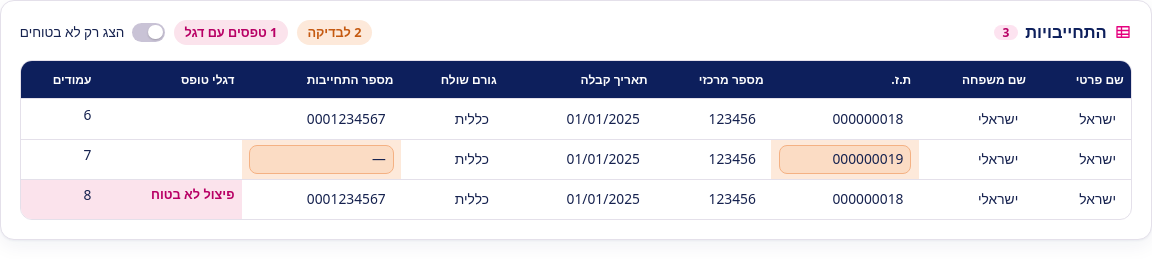
Scenario: ReviewTable › filters to uncertain rows with the toggle
Expected: the number of rows is 4, [21,61,1131,99]; [21,99,1131,139]; [21,139,1131,179]; [21,179,1131,219]
Step 1. Click the checkbox labelled "הצג רק לא בטוחים" → (92, 32), box [20,22,165,42]
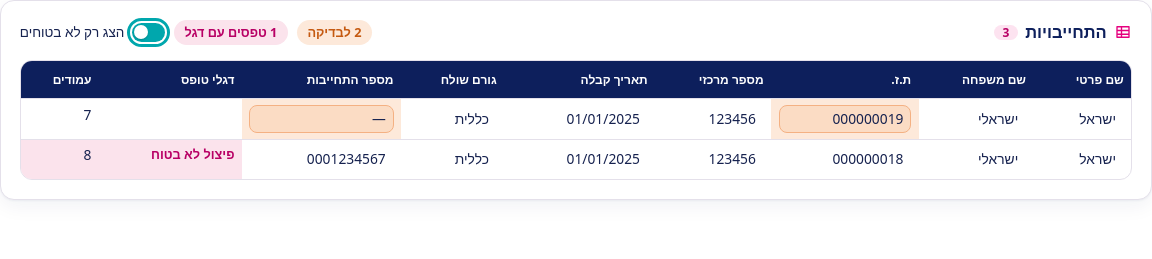
Result: the number of rows is 3 at [21,61,1131,99]; [21,99,1131,139]; [21,139,1131,179]
Step 2. Click the checkbox labelled "הצג רק לא בטוחים" → (92, 32), box [20,22,165,42]
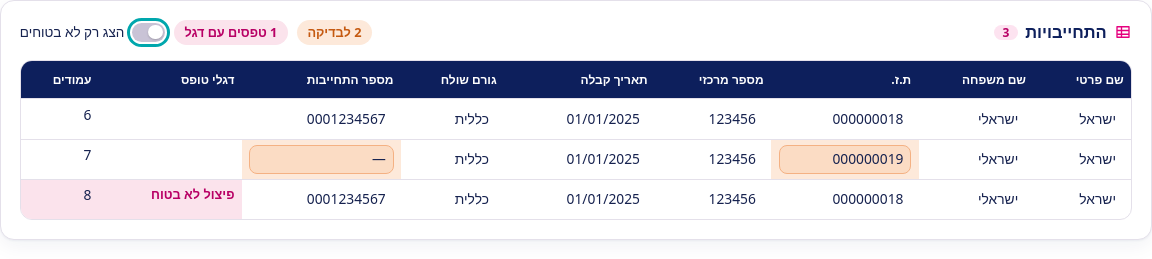
Result: the number of rows is 4 at [21,61,1131,99]; [21,99,1131,139]; [21,139,1131,179]; [21,179,1131,219]
